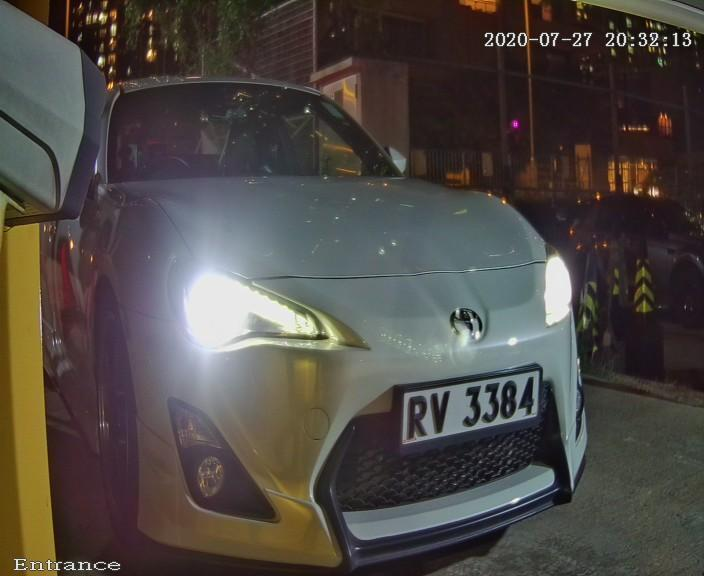privatecar: (67, 26, 591, 576)
